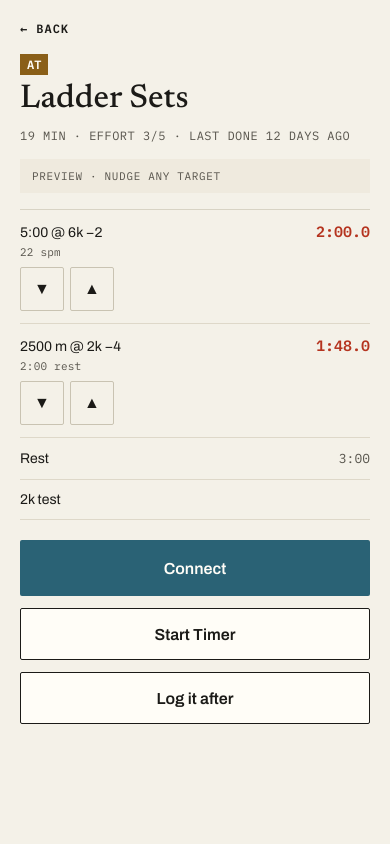
Scenario: WorkoutDetail › shifts the resolved split one second faster after a single ▼ (faster) nudge
Click the button named "Nudge faster" at (42, 289), box [20,267,64,311]
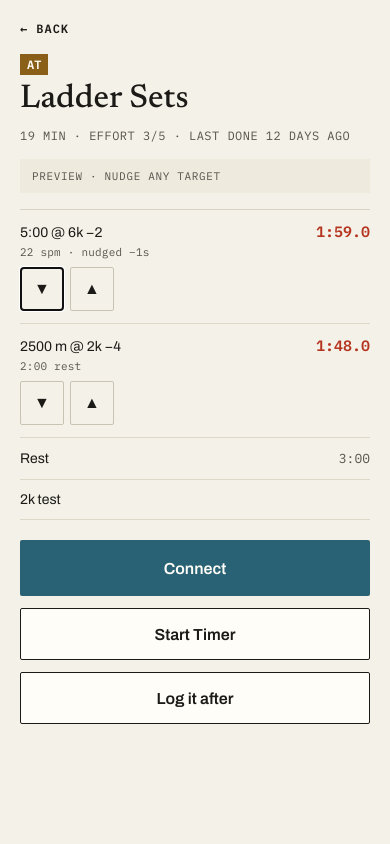
expect the text "1:59.0" is shown: met, box [316,222,370,241]
expect the text "22 spm · nudged −1s" is shown: met, box [20,245,150,259]
